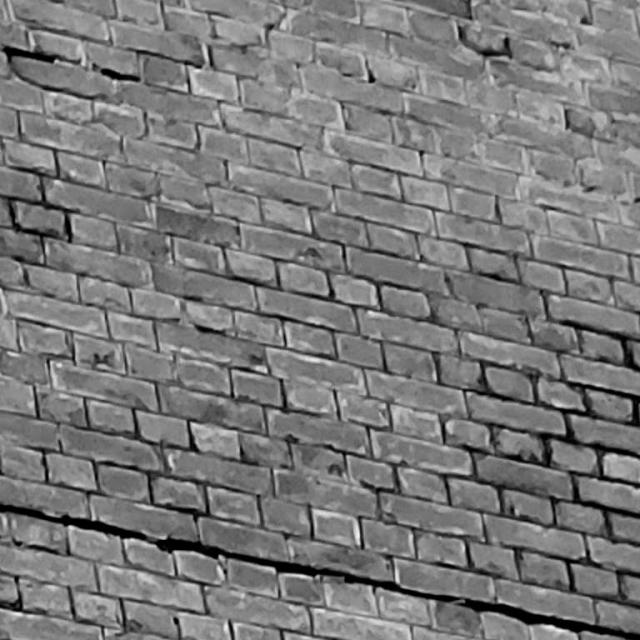crack: (1, 504, 640, 639), (1, 45, 55, 63), (98, 66, 138, 82)
